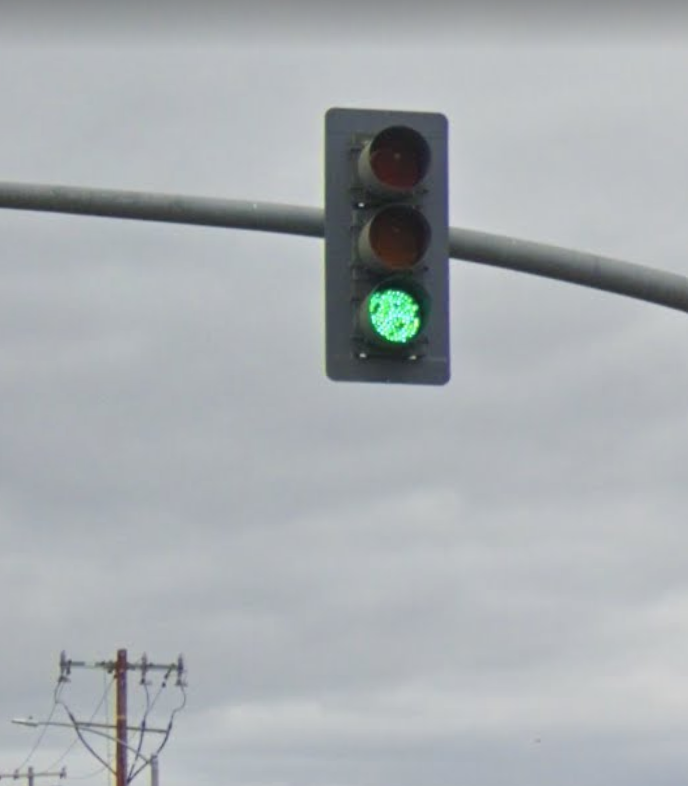green_light: (337, 114, 444, 380)
